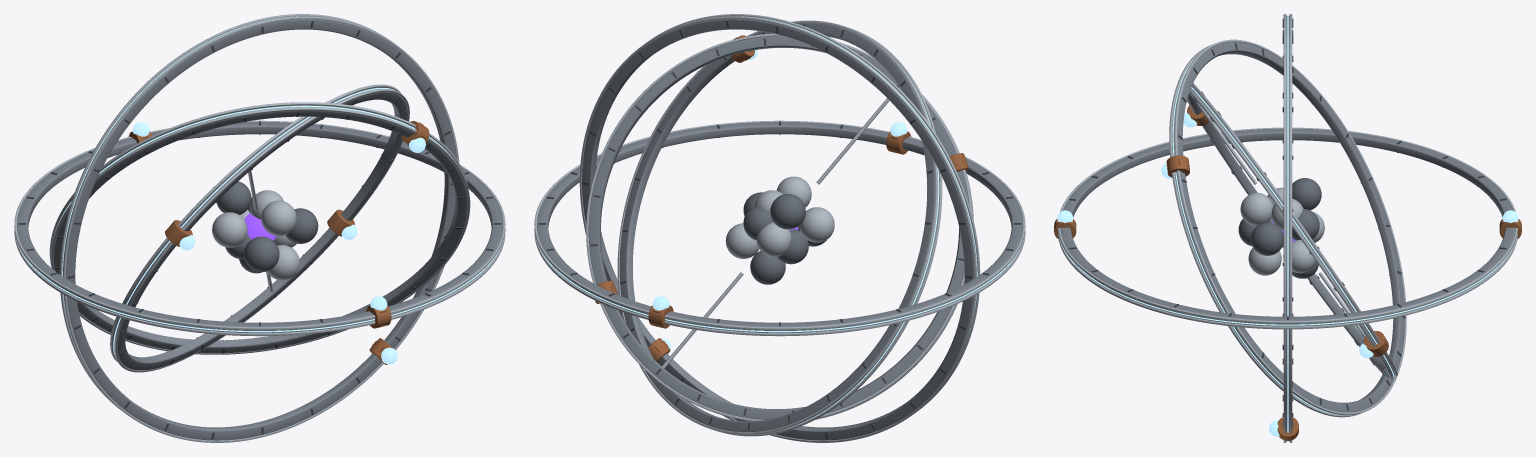
The model's file is atom_04_tetra.glb.
3 views of the same model, side by side, from view 1: azimuth 30°, elevation 25°; view 2: azimuth 150°, elevation 25°; view 3: azimuth 270°, elevation 25° (orthographic). The views are drawn at different scales.
Visible parts, largest first — view 1: orbit_2_ring, orbit_1_ring, orbit_3_ring, orbit_4_ring, orbit_2_lips, orbit_1_lips, orbit_3_lips, nucleus_protons, orbit_4_lips, nucleus_neutrons, orbit_1_channel_light, orbit_3_channel_light (+2 smaller); view 2: orbit_2_ring, orbit_4_ring, orbit_1_ring, orbit_3_ring, orbit_2_lips, orbit_1_lips, orbit_3_lips, nucleus_protons, nucleus_neutrons, orbit_4_lips, hub_spokes, orbit_1_channel_light (+2 smaller); view 3: orbit_1_ring, orbit_3_ring, orbit_1_lips, orbit_3_lips, orbit_2_lips, orbit_4_ring, nucleus_protons, nucleus_neutrons, orbit_4_lips, orbit_2_ring, orbit_1_channel_light, orbit_2_channel_light (+3 smaller).
Part boxes in pixels (bbox=[...]): orbit_2_ring: bbox=[66, 19, 456, 440]; orbit_1_ring: bbox=[17, 122, 502, 332]; orbit_3_ring: bbox=[53, 105, 467, 353]; orbit_4_ring: bbox=[113, 87, 407, 370]; orbit_2_lips: bbox=[59, 14, 459, 442]; orbit_1_lips: bbox=[14, 120, 505, 336]; orbit_3_lips: bbox=[49, 102, 470, 354]; nucleus_protons: bbox=[212, 190, 299, 280]; orbit_4_lips: bbox=[110, 84, 409, 372]; nucleus_neutrons: bbox=[216, 181, 318, 273]; orbit_1_channel_light: bbox=[21, 251, 498, 332]; orbit_3_channel_light: bbox=[55, 105, 453, 231]; orbit_2_ring: bbox=[582, 19, 973, 440]; orbit_4_ring: bbox=[588, 36, 968, 419]; orbit_1_ring: bbox=[537, 122, 1022, 332]; orbit_3_ring: bbox=[619, 23, 939, 431]; orbit_2_lips: bbox=[579, 14, 980, 442]; orbit_1_lips: bbox=[534, 120, 1025, 336]; orbit_3_lips: bbox=[617, 20, 942, 436]; nucleus_protons: bbox=[725, 176, 834, 258]; nucleus_neutrons: bbox=[743, 192, 826, 284]; orbit_4_lips: bbox=[586, 33, 973, 421]; hub_spokes: bbox=[662, 98, 889, 368]; orbit_1_channel_light: bbox=[541, 251, 1018, 332]; orbit_1_ring: bbox=[1060, 128, 1515, 326]; orbit_3_ring: bbox=[1172, 42, 1405, 412]; orbit_1_lips: bbox=[1058, 127, 1517, 329]; orbit_3_lips: bbox=[1169, 39, 1406, 417]; orbit_2_lips: bbox=[1283, 14, 1292, 442]; orbit_4_ring: bbox=[1187, 86, 1394, 377]; nucleus_protons: bbox=[1240, 187, 1324, 275]; nucleus_neutrons: bbox=[1238, 178, 1321, 278]; orbit_4_lips: bbox=[1189, 83, 1397, 380]; orbit_2_ring: bbox=[1286, 15, 1289, 441]; orbit_1_channel_light: bbox=[1063, 248, 1512, 325]; orbit_2_channel_light: bbox=[1287, 15, 1288, 441].
Size of the model in its own units: 2.07 by 1.93 by 2.1.
